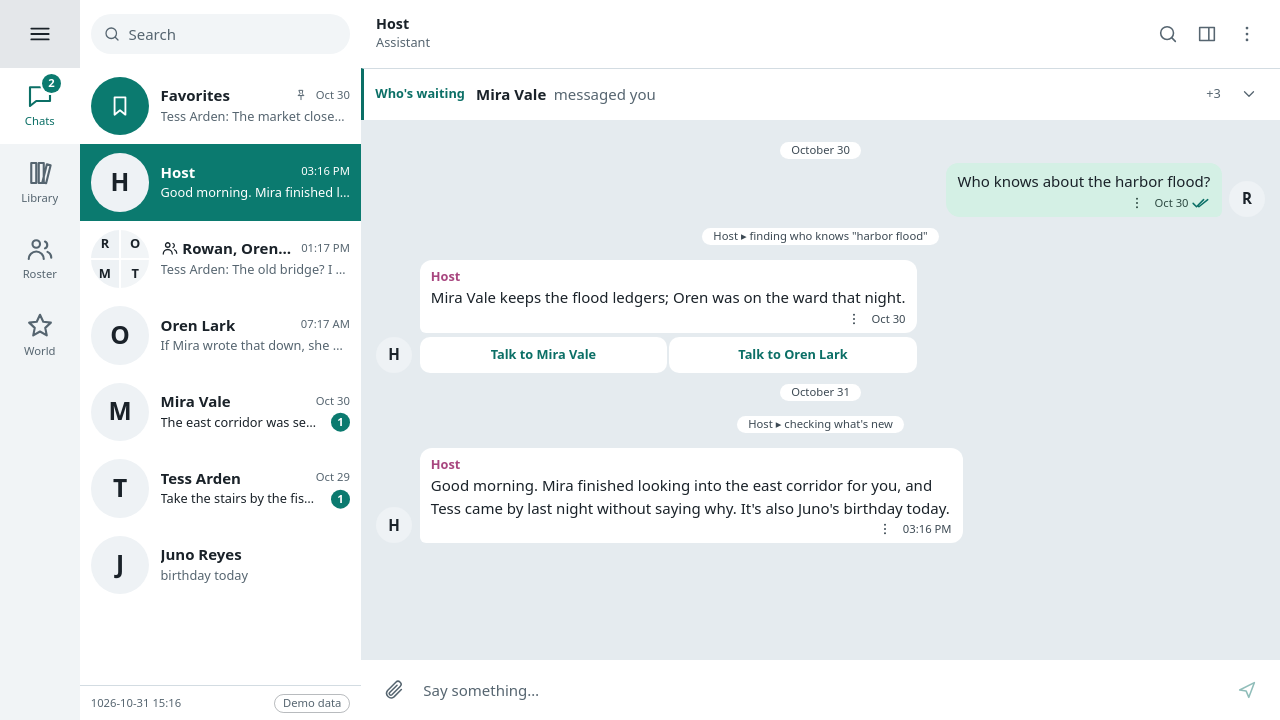
Test: the hamburger opens the drawer: the user, the places to go, night mode, the version
Expected: the heading "Who's waiting" is shown, top-left (375, 86), bottom-right (465, 102)
Click the button named "Menu": (40, 34) top-left (0, 0), bottom-right (80, 68)
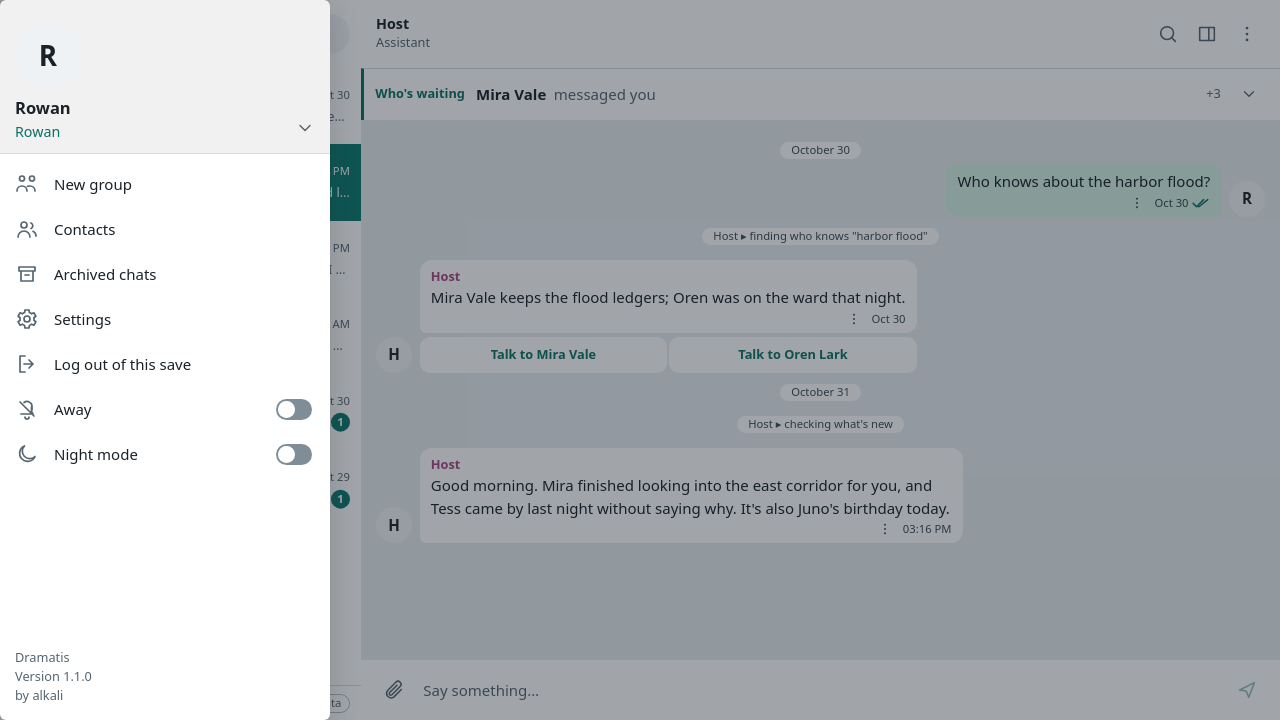
Expected: the 1st text "Rowan" is shown, top-left (15, 96), bottom-right (71, 121)
Expected: the button with aria-label "My profile" is shown, top-left (0, 0), bottom-right (330, 153)
Expected: the button "New group" is shown, top-left (0, 162), bottom-right (330, 207)
Click the button "Contacts": (85, 229) top-left (0, 207), bottom-right (330, 252)
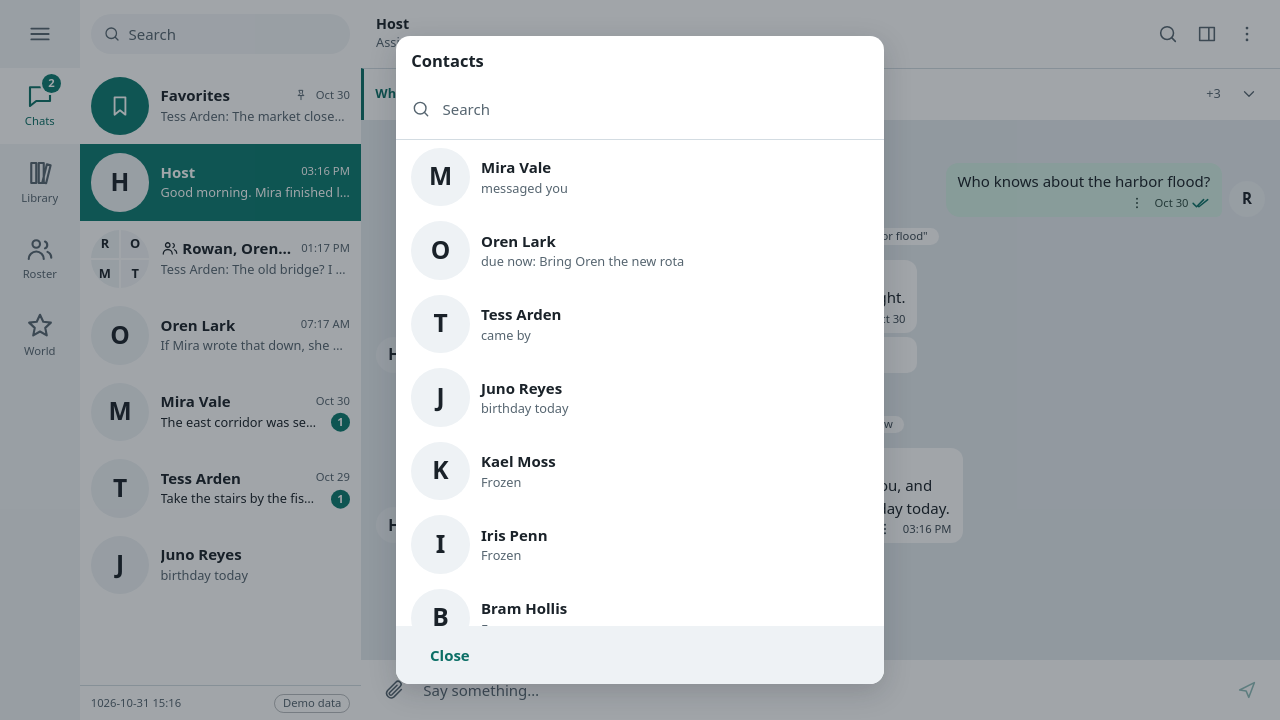
Expected: the text "Mira Vale" is shown, top-left (481, 157), bottom-right (551, 177)
